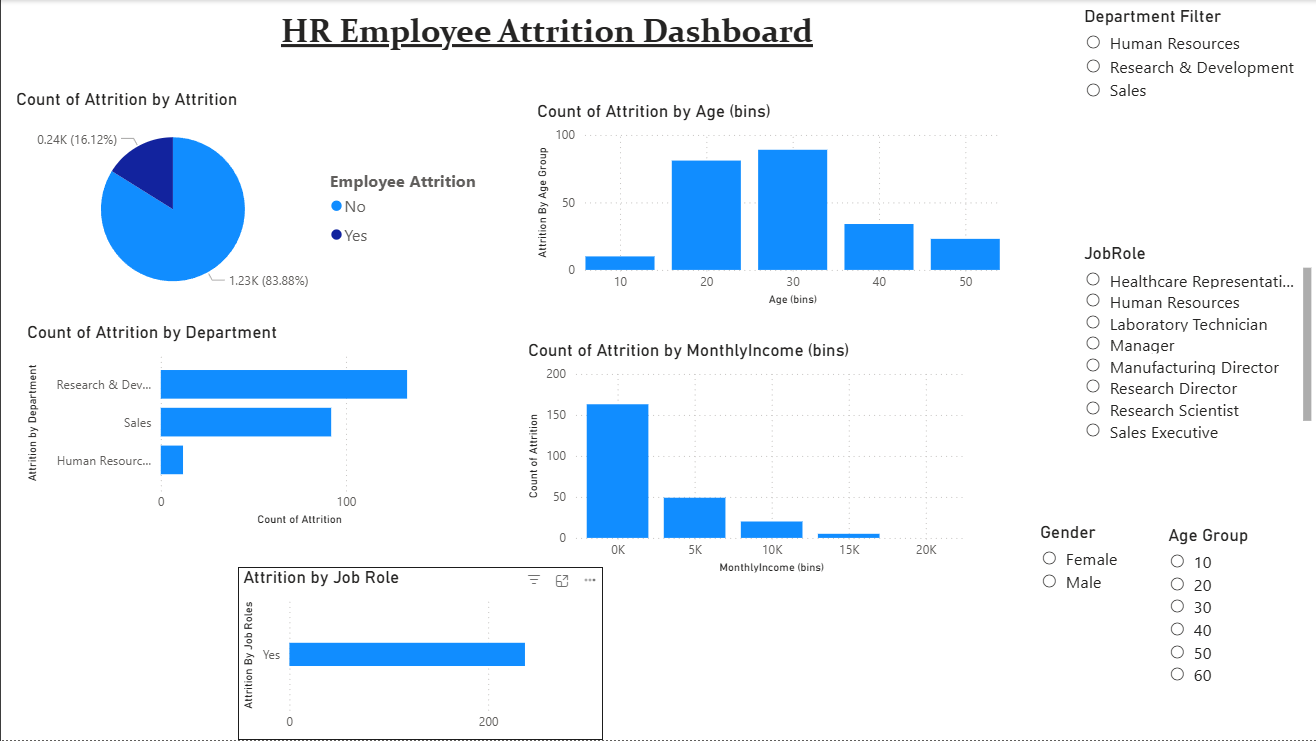

The page's visual inventory and layout, read from the dashboard file:
{"tool":"powerbi","page":{"name":"Page 1","canvas":[1280,720],"ordinal":0},"visuals":[{"type":"pieChart","fields":{"Category":["WA_Fn-UseC_-HR-Employee-Attrition.Attrition"],"Y":["CountNonNull(WA_Fn-UseC_-HR-Employee-Attrition.Attrition)"]},"box":[9.7,86.6,464,215],"z":0},{"type":"clusteredBarChart","fields":{"Category":["WA_Fn-UseC_-HR-Employee-Attrition.Department"],"Y":["CountNonNull(WA_Fn-UseC_-HR-Employee-Attrition.Attrition)"]},"box":[20.4,313.2,420.2,202.3],"z":1000},{"type":"clusteredColumnChart","fields":{"Category":["WA_Fn-UseC_-HR-Employee-Attrition.Age (bins)"],"Y":["CountNonNull(WA_Fn-UseC_-HR-Employee-Attrition.Attrition)"]},"box":[516.5,98.2,460.1,203.3],"z":2000},{"type":"clusteredColumnChart","fields":{"Y":["CountNonNull(WA_Fn-UseC_-HR-Employee-Attrition.Attrition)"],"Category":["WA_Fn-UseC_-HR-Employee-Attrition.MonthlyIncome (bins)"]},"box":[507.7,330.7,436.7,231.5],"z":3000},{"type":"clusteredBarChart","title":"Attrition by Job Role","fields":{"Y":["CountNonNull(WA_Fn-UseC_-HR-Employee-Attrition.JobRole)"],"Category":["WA_Fn-UseC_-HR-Employee-Attrition.Attrition"]},"box":[230.5,551.5,355,168.3],"z":4000},{"type":"listSlicer","title":"Department Filter","fields":{"Values":["WA_Fn-UseC_-HR-Employee-Attrition.Department"]},"box":[1048.5,5.8,231.5,217.9],"z":5000},{"type":"listSlicer","title":"Age Group","fields":{"Values":["WA_Fn-UseC_-HR-Employee-Attrition.Age (bins)"]},"box":[1130.2,510.6,137.1,209.1],"z":6000},{"type":"listSlicer","fields":{"Values":["WA_Fn-UseC_-HR-Employee-Attrition.JobRole"]},"box":[1048.5,236.4,231.5,202.3],"z":8000},{"type":"textbox","box":[193.6,5.8,675,72],"z":8001},{"type":"listSlicer","fields":{"Values":["WA_Fn-UseC_-HR-Employee-Attrition.Gender"]},"box":[1005.7,507.7,109.9,212],"z":8002}]}

Visuals, with their boxes in screenshot pixels (x1, y1, x2, y2), scaled from the page's 1280x720 canvas onto the 1316x741 screenshot:
pieChart - WA_Fn-UseC_-HR-Employee-Attrition.Attrition x CountNonNull(WA_Fn-UseC_-HR-Employee-Attrition.Attrition): select_region(10, 89, 487, 310)
clusteredBarChart - WA_Fn-UseC_-HR-Employee-Attrition.Department x CountNonNull(WA_Fn-UseC_-HR-Employee-Attrition.Attrition): select_region(21, 322, 453, 531)
clusteredColumnChart - WA_Fn-UseC_-HR-Employee-Attrition.Age (bins) x CountNonNull(WA_Fn-UseC_-HR-Employee-Attrition.Attrition): select_region(531, 101, 1004, 310)
clusteredColumnChart - CountNonNull(WA_Fn-UseC_-HR-Employee-Attrition.Attrition) x WA_Fn-UseC_-HR-Employee-Attrition.MonthlyIncome (bins): select_region(522, 340, 971, 579)
"Attrition by Job Role" clusteredBarChart: select_region(237, 568, 602, 740)
"Department Filter" listSlicer: select_region(1078, 6, 1315, 230)
"Age Group" listSlicer: select_region(1162, 525, 1303, 740)
listSlicer - WA_Fn-UseC_-HR-Employee-Attrition.JobRole: select_region(1078, 243, 1315, 451)
textbox: select_region(199, 6, 893, 80)
listSlicer - WA_Fn-UseC_-HR-Employee-Attrition.Gender: select_region(1034, 523, 1147, 740)
